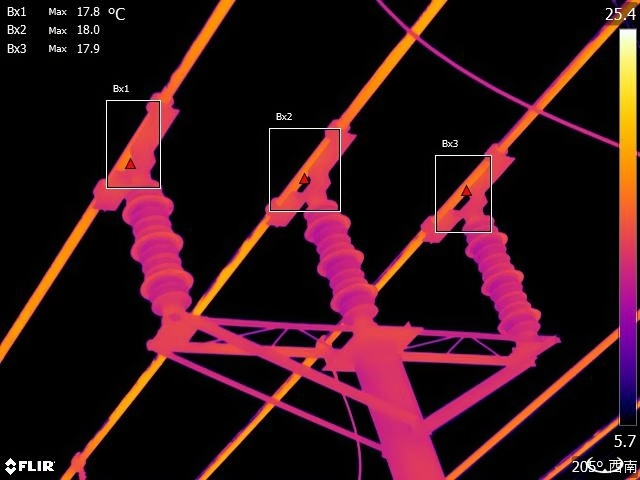clamp: (305, 328, 340, 370)
post insulator: (464, 207, 554, 344), (121, 178, 206, 308), (302, 191, 381, 312)
